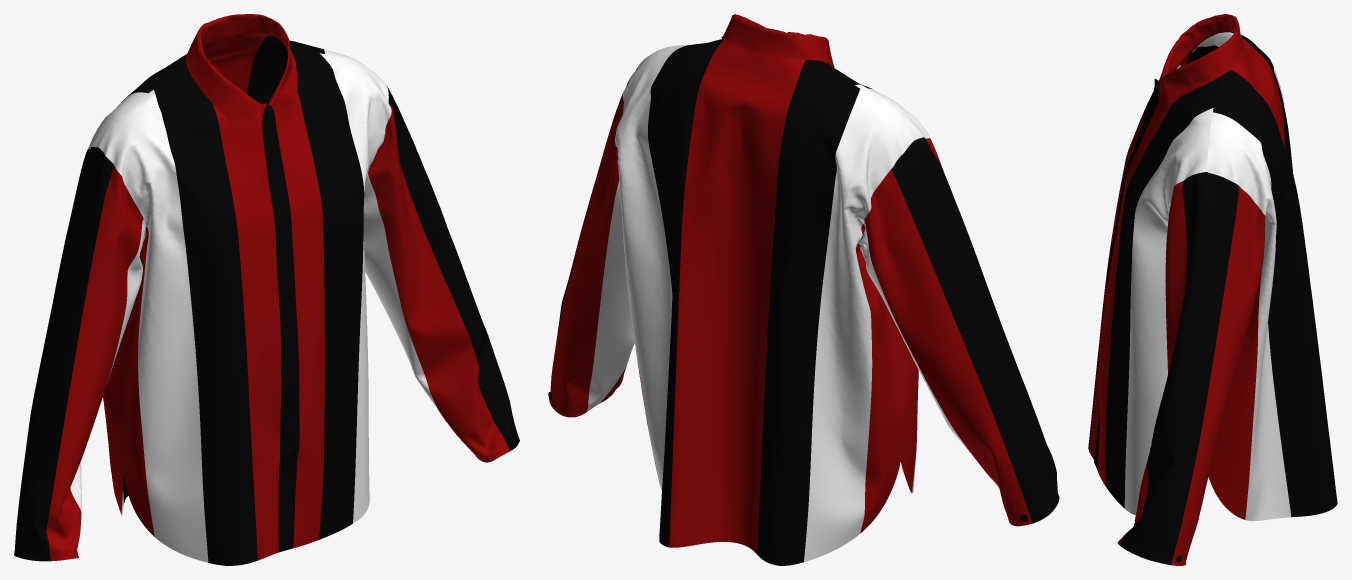
3 renders of one model, left to right at view 1: azimuth 30°, elevation 25°; view 2: azimuth 150°, elevation 25°; view 3: azimuth 270°, elevation 25°, orthographic. The views are drawn at different scales.
Parts seen in each view (by area): view 1: Cloth; view 2: Cloth; view 3: Cloth.
Boxes of the visible parts, x1=… form: Cloth: x1=14, y1=14, x2=519, y2=565; Cloth: x1=549, y1=14, x2=1059, y2=565; Cloth: x1=1088, y1=14, x2=1337, y2=565.
Size of the model in its own units: 0.8405 by 0.799 by 0.3886.
